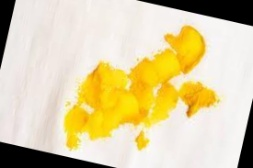mustard: (61, 44, 174, 160), (151, 72, 223, 135), (149, 22, 214, 89)
